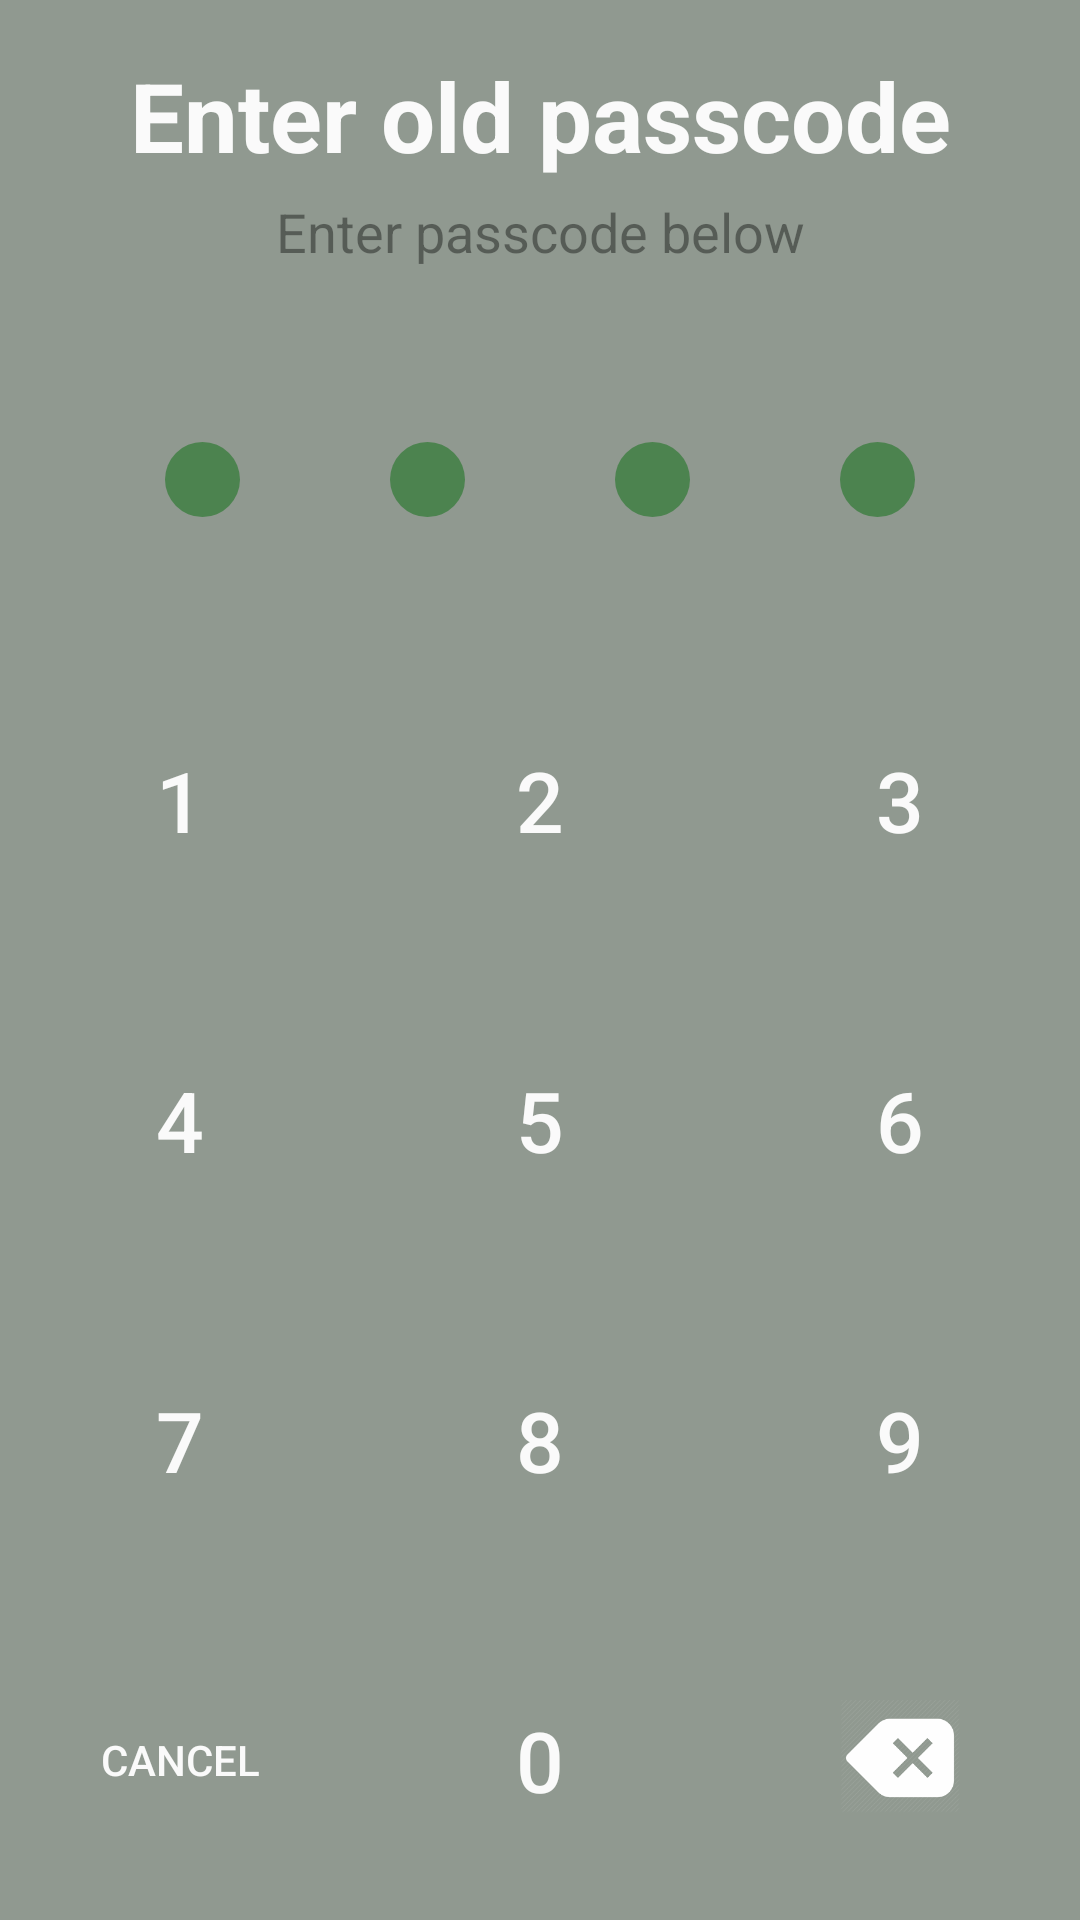

Icon click points for this 1080×1920 phone screenshot, format (x,y):
backspace: (900,1757)
